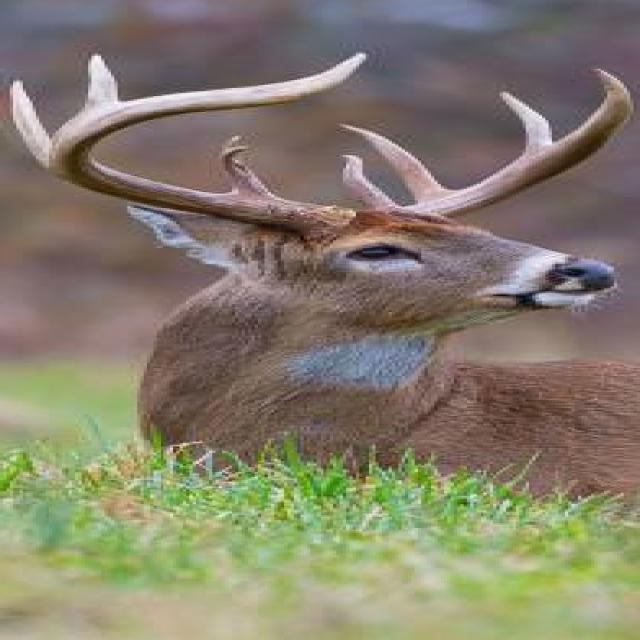L-G1: (338, 154, 397, 211)
L-G2: (336, 123, 454, 204)
L-G3: (499, 91, 551, 152)
R-F: (50, 50, 371, 239)
R-G1: (219, 134, 276, 196)
R-G3: (81, 54, 117, 110)
